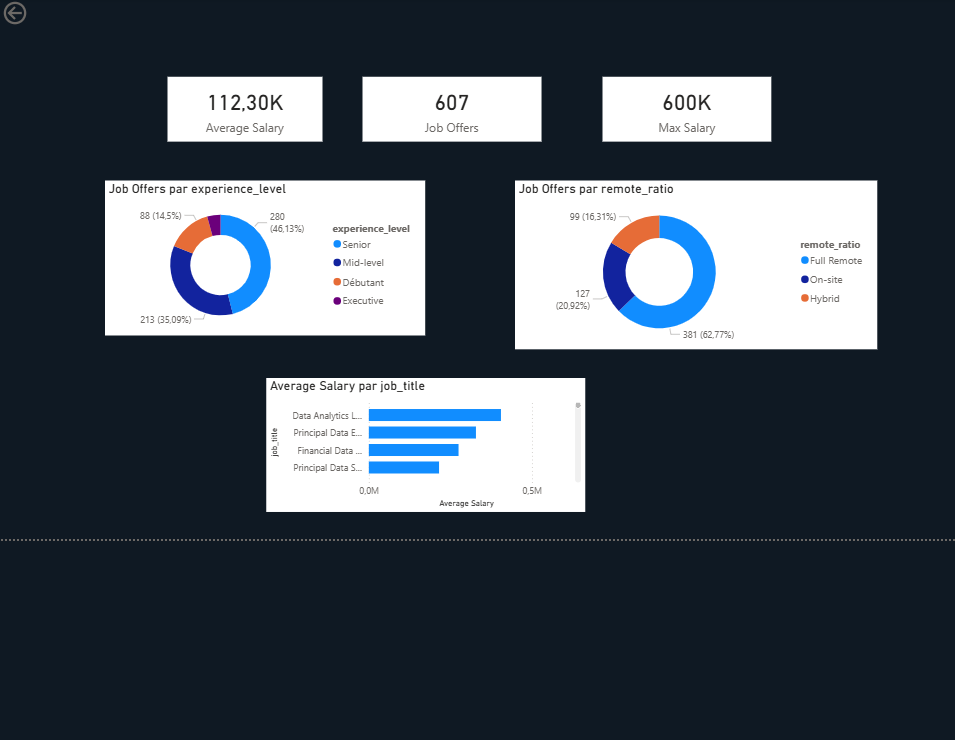

This screenshot's page, from the dashboard's own definition file:
{"tool":"powerbi","page":{"name":"Country Details","canvas":[1280,720],"ordinal":3},"visuals":[{"type":"actionButton","box":[0,0,100,40],"z":0},{"type":"card","fields":{"Values":["_Mesures.Salaire Moyen"]},"box":[223,104.9,206.4,86.6],"z":1000},{"type":"card","fields":{"Values":["_Mesures.Nb Offres"]},"box":[482.7,104.9,238,86.6],"z":2000},{"type":"card","fields":{"Values":["_Mesures.Salaire Max"]},"box":[802.3,104.9,224.7,86.6],"z":3000},{"type":"clusteredBarChart","fields":{"Category":["Dim_Metier.job_title"],"Y":["_Mesures.Salaire Moyen"]},"box":[354.5,506,424.4,178.1],"z":4000},{"type":"donutChart","fields":{"Category":["Dim_Experience.experience_level"],"Y":["_Mesures.Nb Offres"]},"box":[139.8,243,426.1,206.4],"z":5000},{"type":"donutChart","fields":{"Category":["Fact_Salaires.remote_ratio"],"Y":["_Mesures.Nb Offres"]},"box":[685.8,243,482.7,224.7],"z":6000}]}

Visuals, with their boxes in screenshot pixels (x1, y1, x2, y2):
actionButton: l=0, t=0, r=66, b=23
card - _Mesures.Salaire Moyen: l=160, t=73, r=318, b=139
card - _Mesures.Nb Offres: l=358, t=73, r=540, b=139
card - _Mesures.Salaire Max: l=602, t=73, r=773, b=139
clusteredBarChart - Dim_Metier.job_title x _Mesures.Salaire Moyen: l=260, t=379, r=584, b=514
donutChart - Dim_Experience.experience_level x _Mesures.Nb Offres: l=97, t=178, r=422, b=335
donutChart - Fact_Salaires.remote_ratio x _Mesures.Nb Offres: l=513, t=178, r=881, b=349
